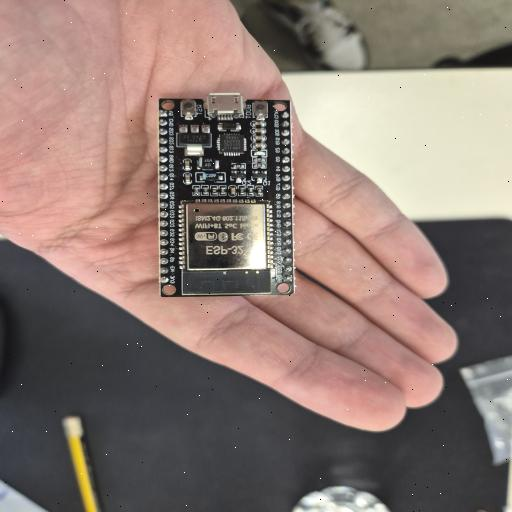esp32-dev: (159, 93, 294, 297)
